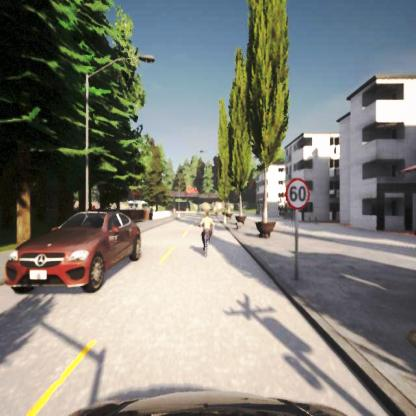bike: (199, 211, 213, 254)
vehicle: (3, 209, 145, 292)
